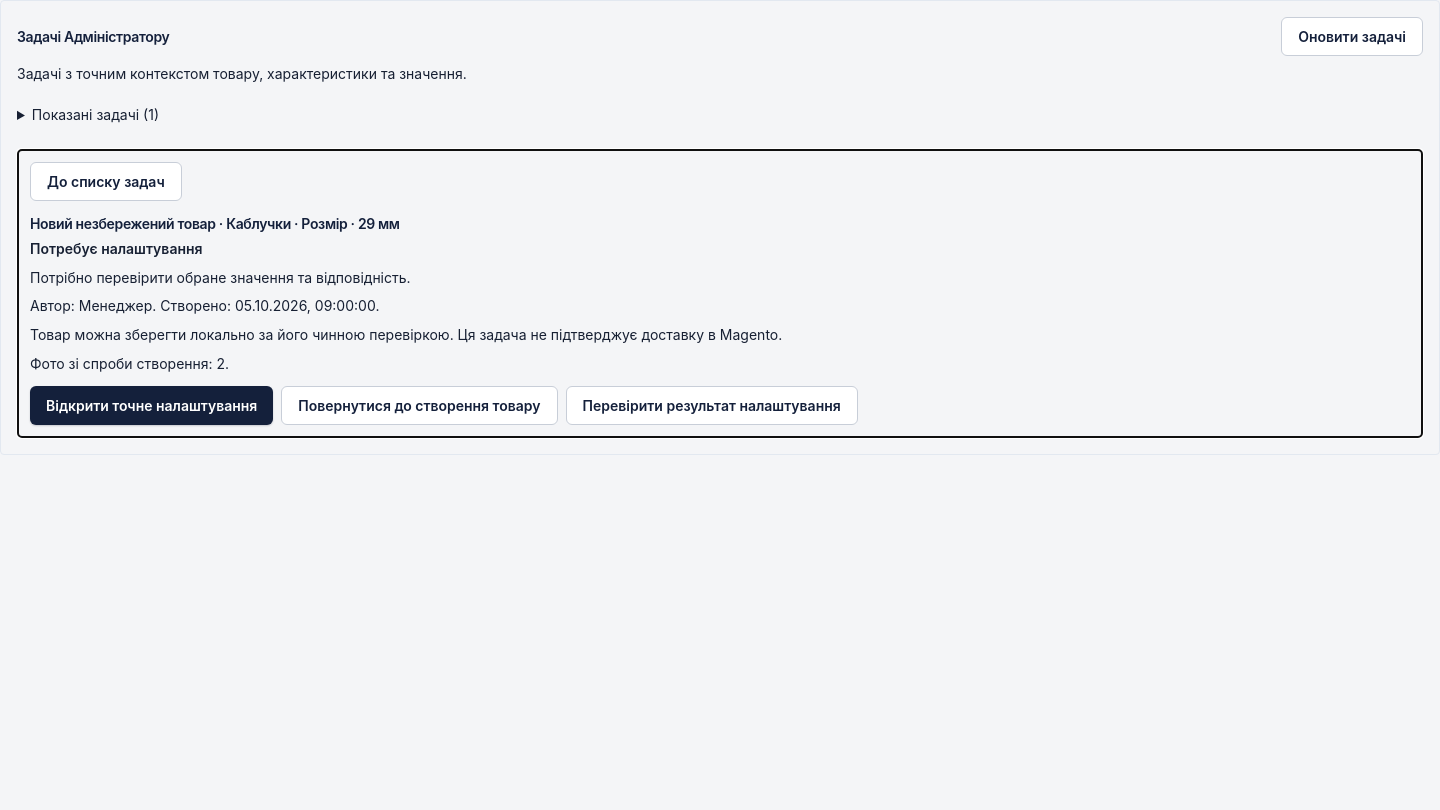
Test: definitive stale resolution rejects proof and requires a new explicit check without auto POST
Click the button "Перевірити результат налаштування" at (712, 406), box [566,386,858,425]
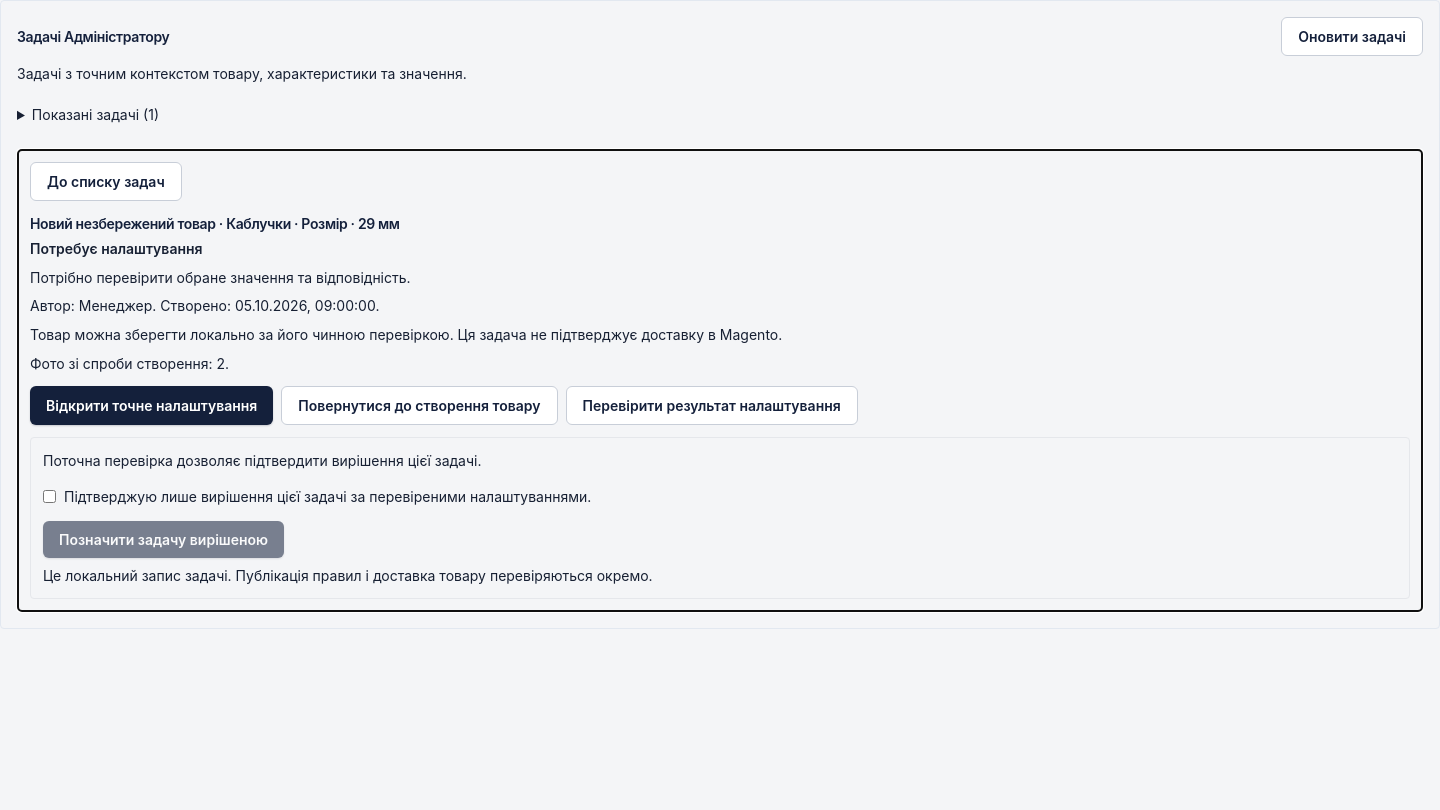
Expected: the checkbox is shown
Click the checkbox at (50, 496), box [43,490,56,502]
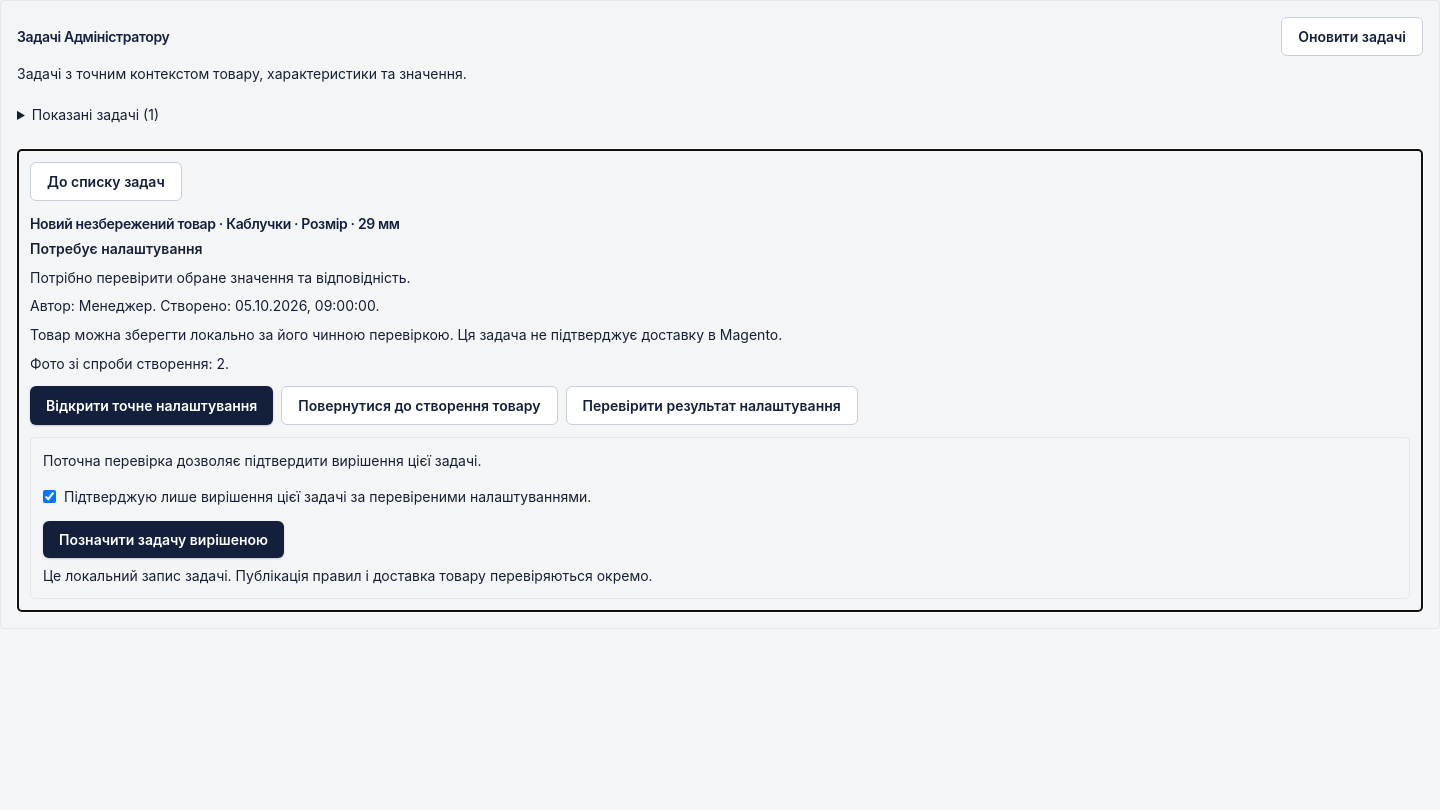
Click the button "Позначити задачу вирішеною" at (164, 540), box [43,521,284,558]
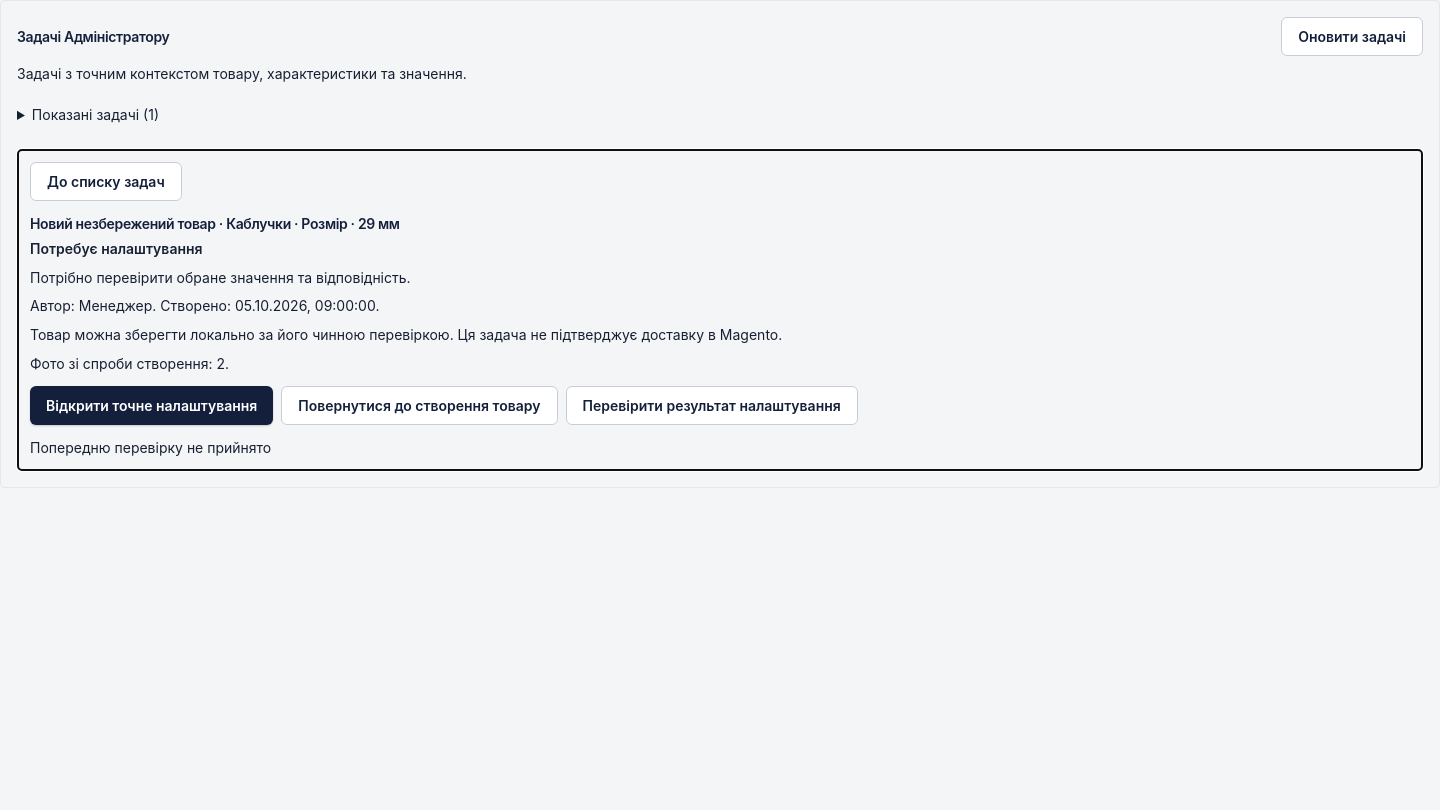
Expected: the text "Попередню перевірку не прийнято" is shown, [30,439,271,456]
Expected: the button "Позначити задачу вирішеною" is gone
Click the button "Перевірити результат налаштування" at (712, 406), box [566,386,858,425]
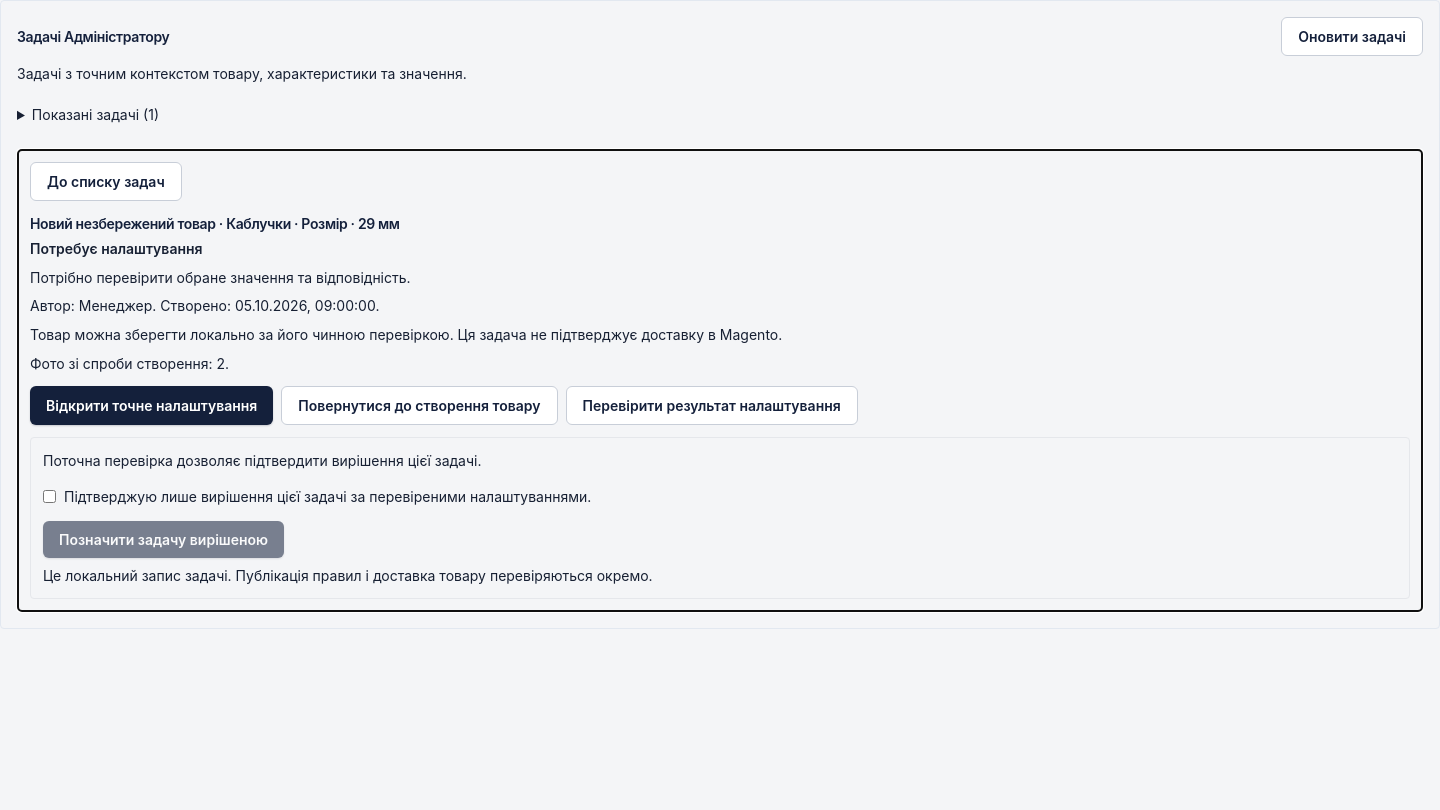
Expected: the checkbox is shown, [43,490,56,502]
